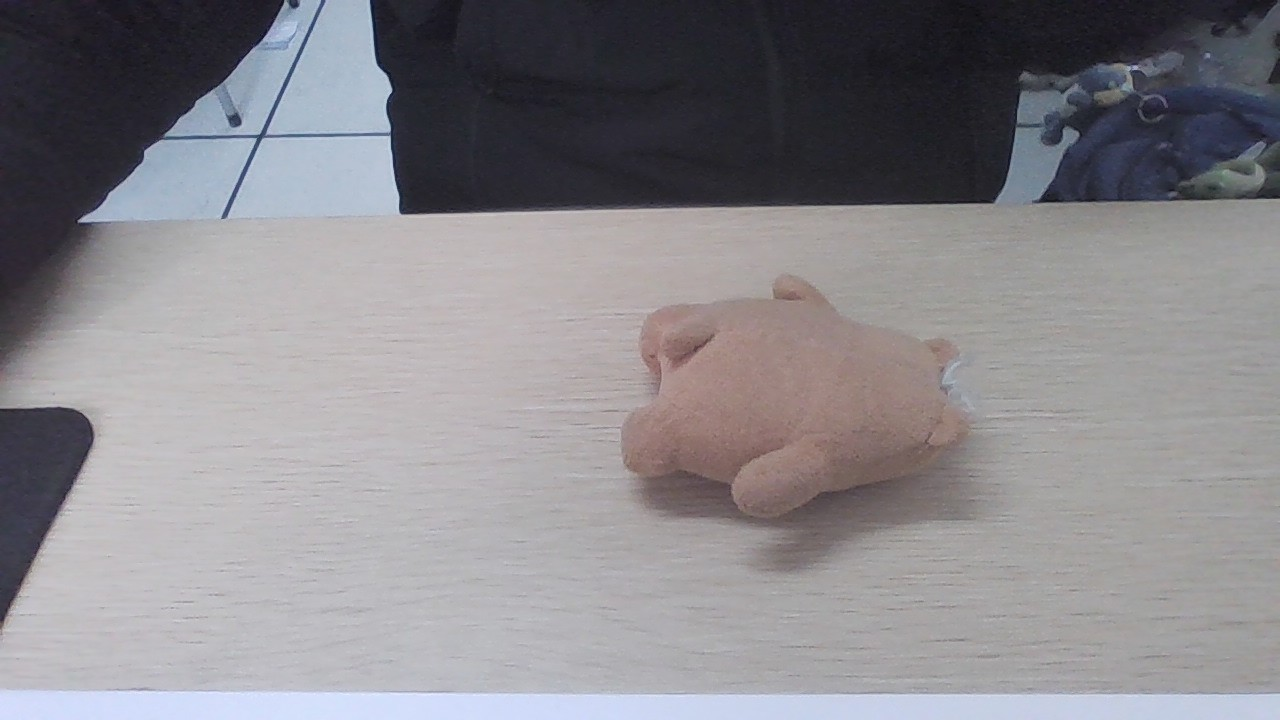KHS-doll: (657, 277, 942, 500)
